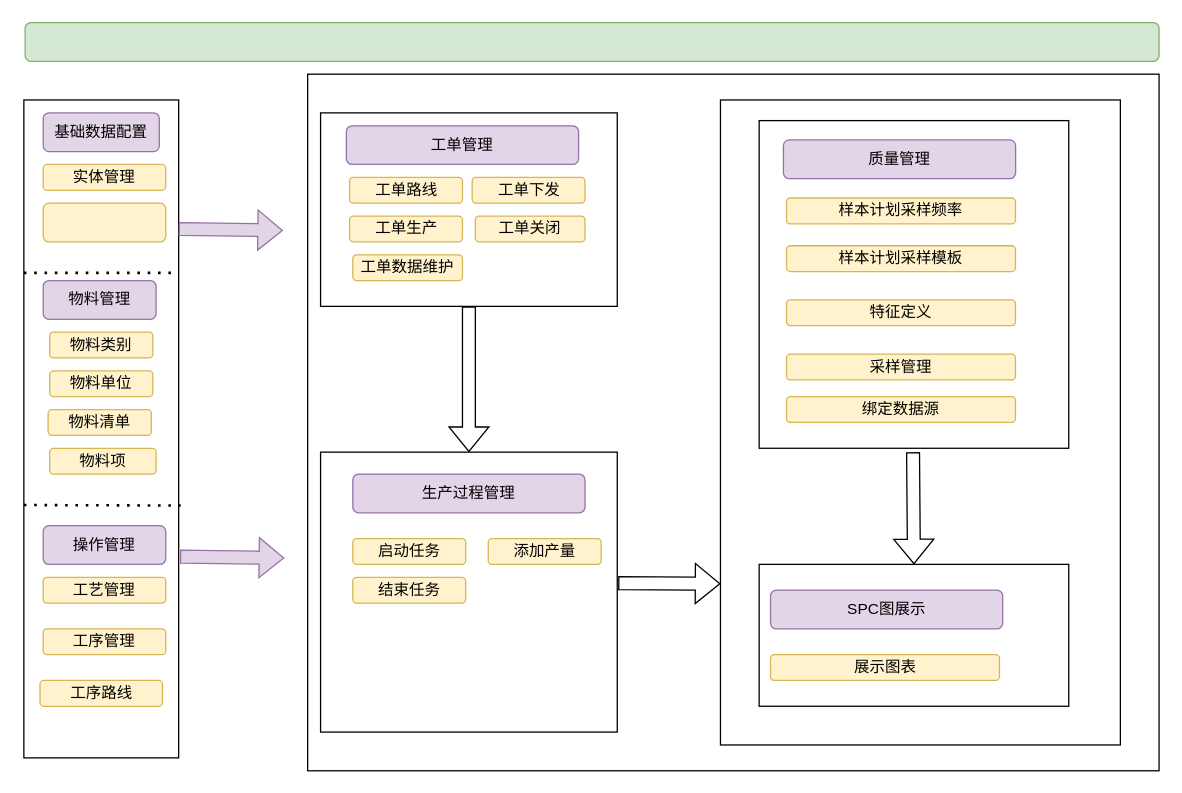
Some shapes in this 1182 by 793 pixel diagram are drawn without their labels. The centre of each missing label's shape, as x and y in pixels:
业务架构图: the point at 591,41
任务和步骤状态定义: the point at 104,222
